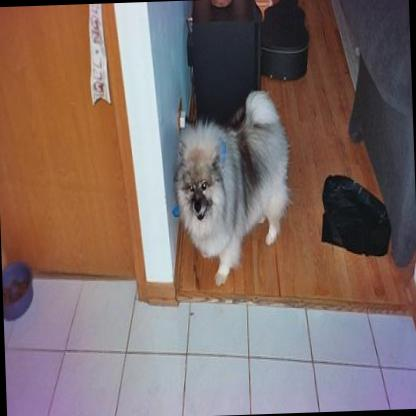keeshond: (173, 84, 291, 286)
